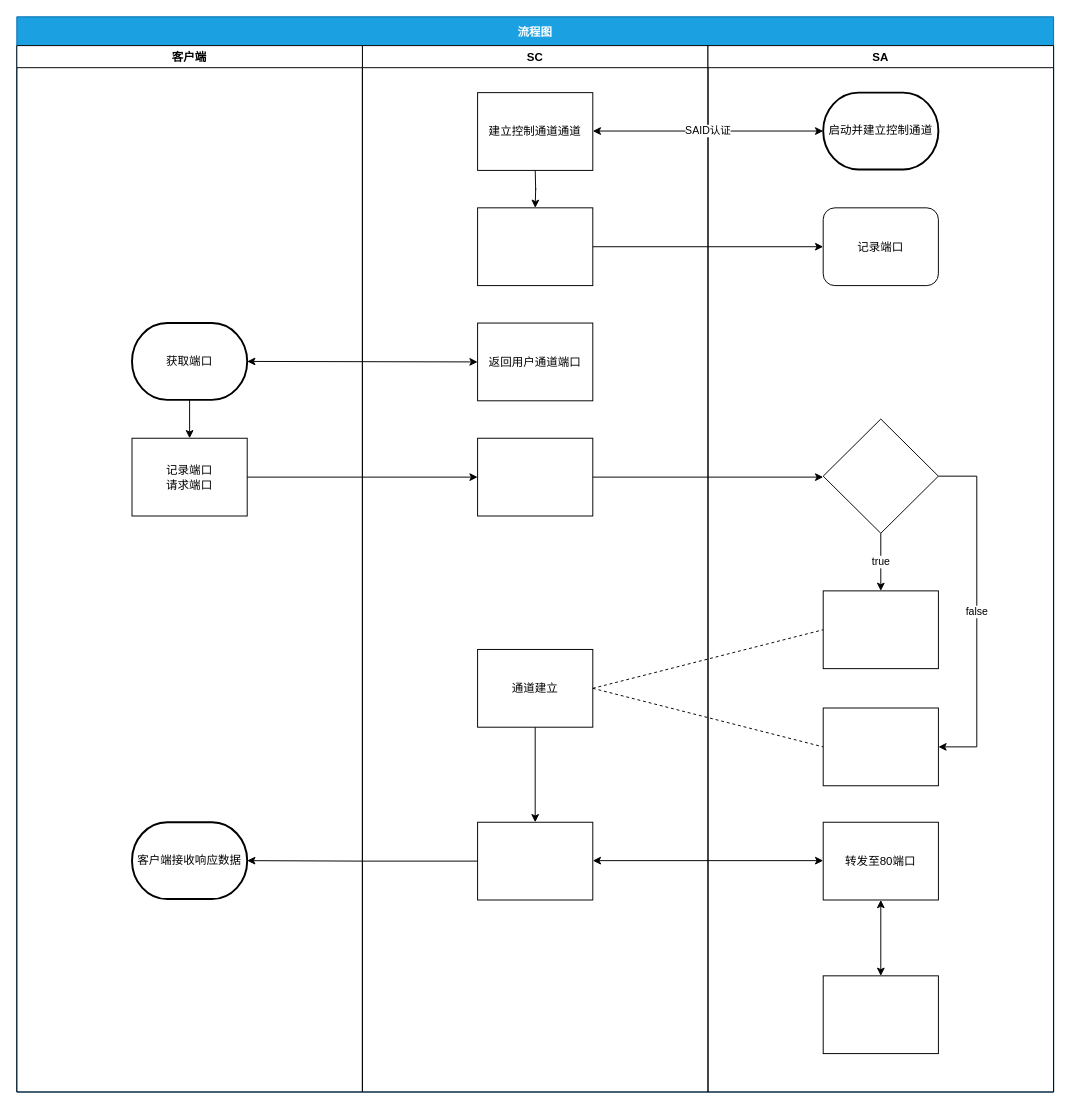
Some shapes in this 1070 by 1109 pixel diagram are drawn without their labels. Each missing label, with the box of its shape:
分配端口: (477, 207, 593, 286)
创建stream连接: (822, 707, 938, 786)
创建TCP连接: (822, 590, 938, 669)
数据业务处理: (822, 975, 938, 1054)
数据转发: (477, 821, 593, 900)
通知SA建立通道: (477, 437, 593, 516)
通道连接数是否>3: (822, 418, 938, 533)
